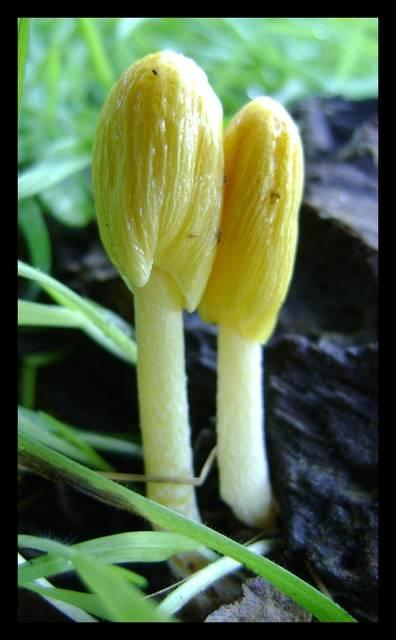Edible Mushroom: (90, 49, 226, 581), (196, 93, 305, 530)
